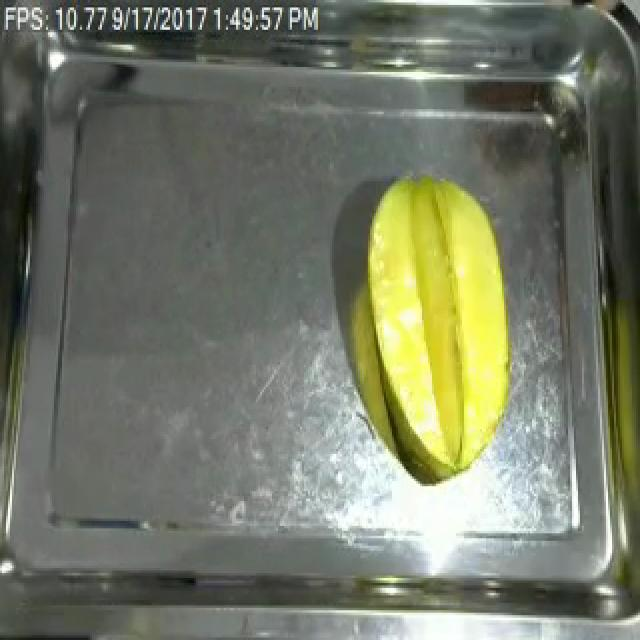fruit: (354, 164, 524, 488)
